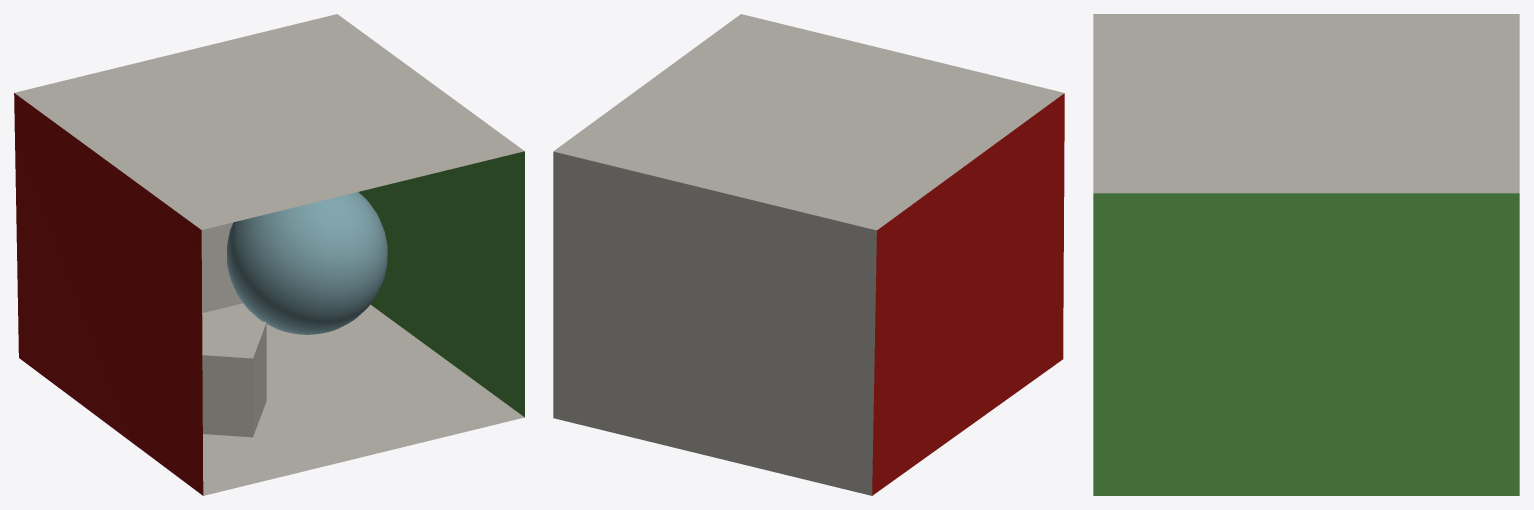
Rendered from CornellBox-Glossy-Floor.obj.
3 renders of one model, left to right at view 1: azimuth 30°, elevation 25°; view 2: azimuth 150°, elevation 25°; view 3: azimuth 270°, elevation 25°, orthographic. The views are drawn at different scales.
Visible parts, largest first — view 1: CornellBox-Glossy-Floor; view 2: CornellBox-Glossy-Floor; view 3: CornellBox-Glossy-Floor.
Part boxes in pixels (x1=…): CornellBox-Glossy-Floor: x1=14, y1=14, x2=524, y2=495; CornellBox-Glossy-Floor: x1=553, y1=14, x2=1064, y2=495; CornellBox-Glossy-Floor: x1=1093, y1=14, x2=1519, y2=495.
Bounding box in the file's own units: 2.02 × 1.59 × 2.03.
